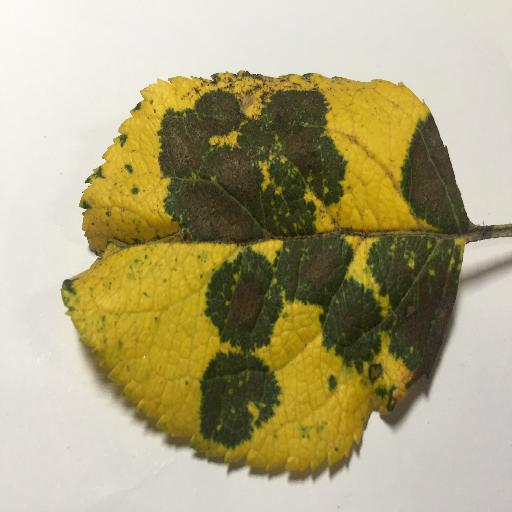Brown_Spot: (163, 107, 335, 233), (400, 269, 452, 350), (206, 269, 265, 338), (404, 143, 450, 229), (285, 245, 345, 293), (335, 299, 379, 340)
